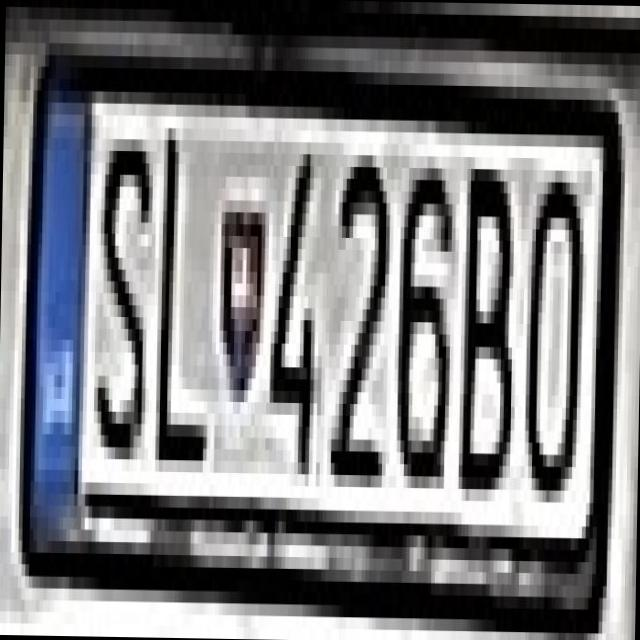0: (509, 133, 588, 490)
2: (326, 142, 391, 475)
4: (260, 118, 322, 462)
6: (381, 132, 460, 488)
B: (447, 132, 522, 490)
L: (136, 92, 212, 460)
S: (78, 102, 154, 448)
